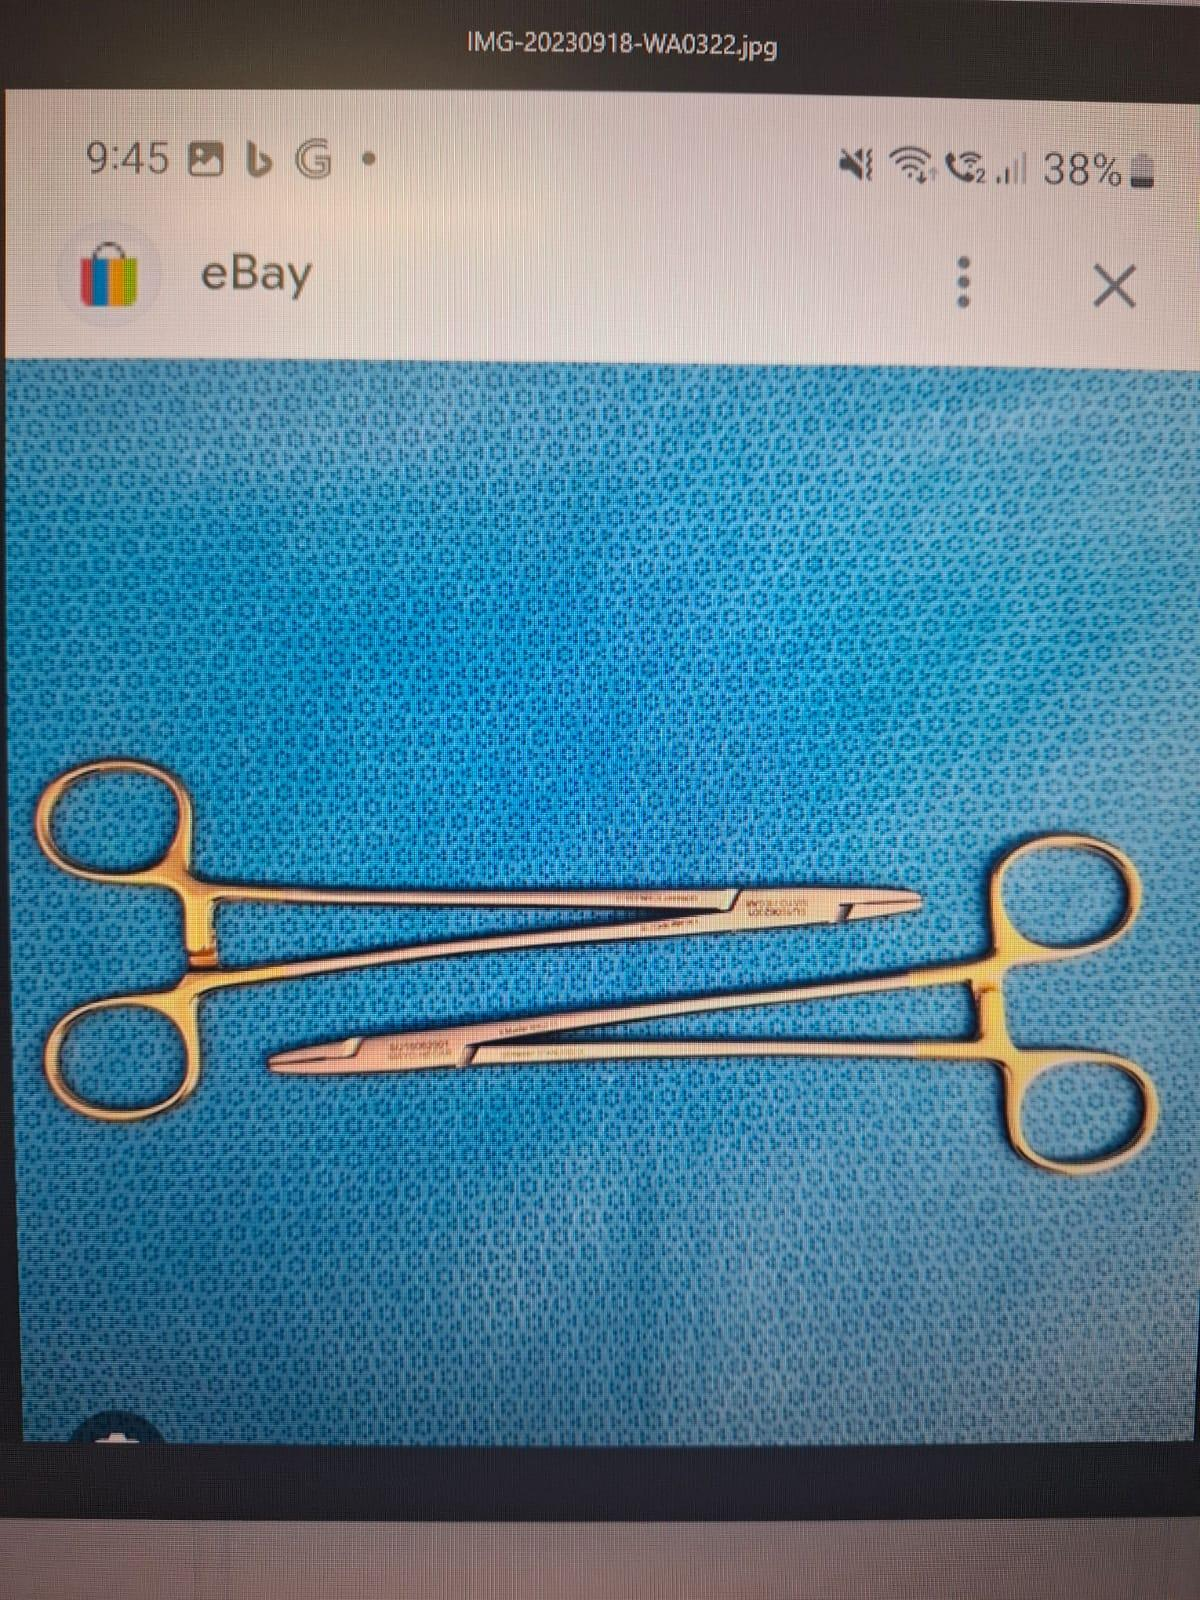Needle Holder: (28, 732, 935, 1145), (252, 825, 1170, 1183)
